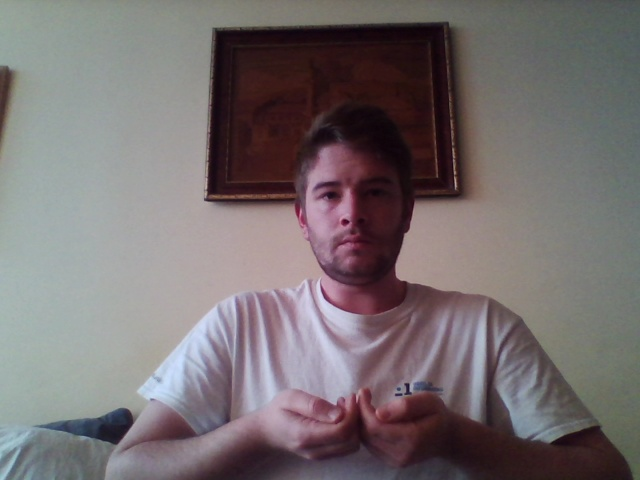kako: (266, 379, 446, 464)
